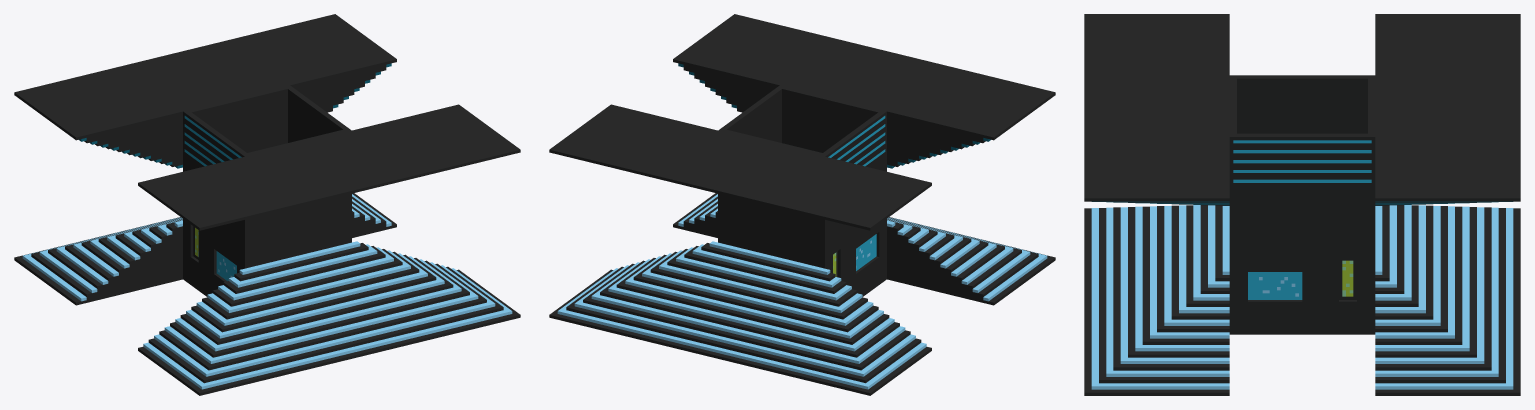
File: brain.obj
3 renders of one model, left to right at view 1: azimuth 30°, elevation 25°; view 2: azimuth 150°, elevation 25°; view 3: azimuth 270°, elevation 25°, orthographic. The views are drawn at different scales.
Size of the model in its own units: 12 by 6 by 12.
Materials: 1 (1 with a texture image).
